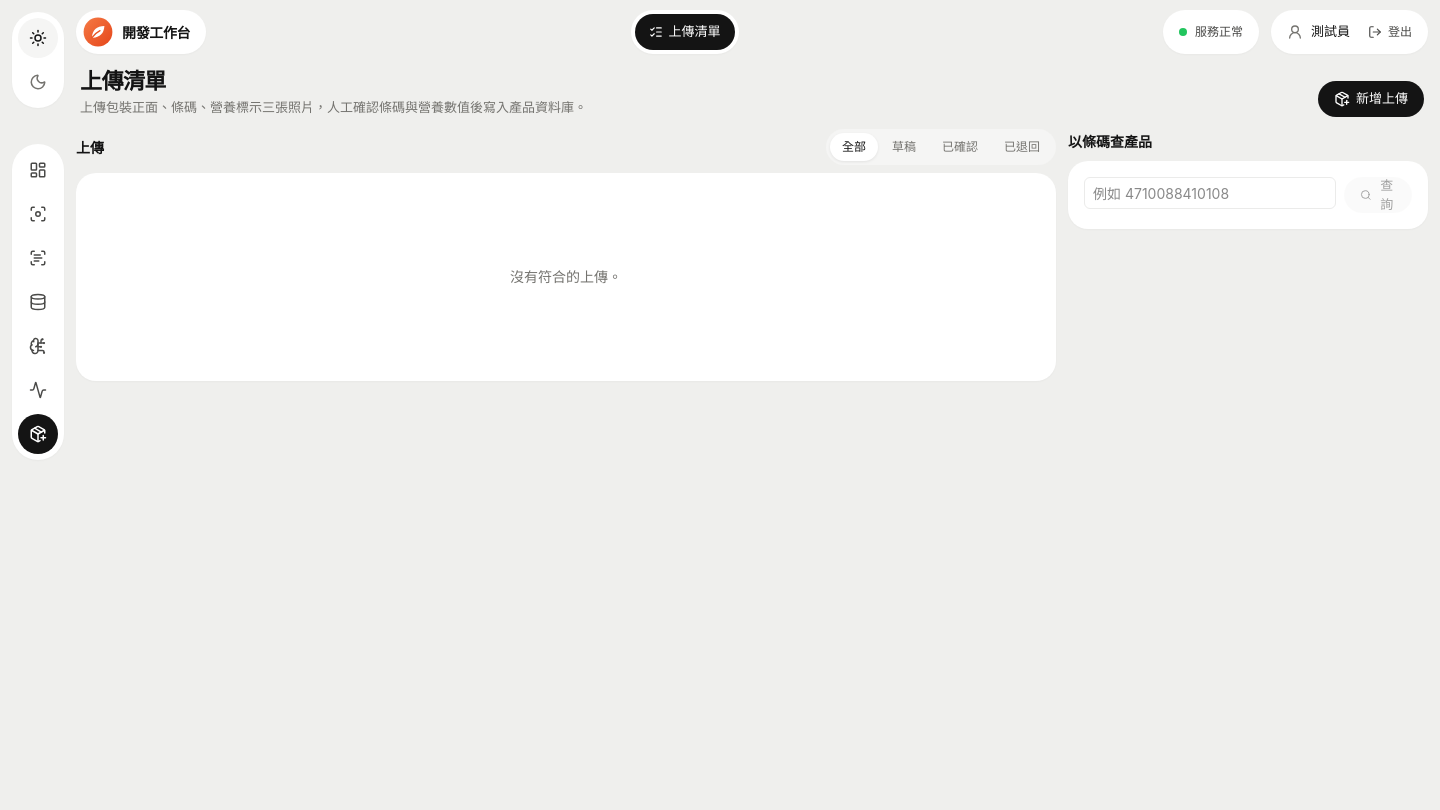
Test: 上傳清單 › 以條碼查產品：顯示摘要或查無此產品
Type "4710088410108" into the field named "查詢條碼" at [1210, 193], box [1084,177,1336,209]
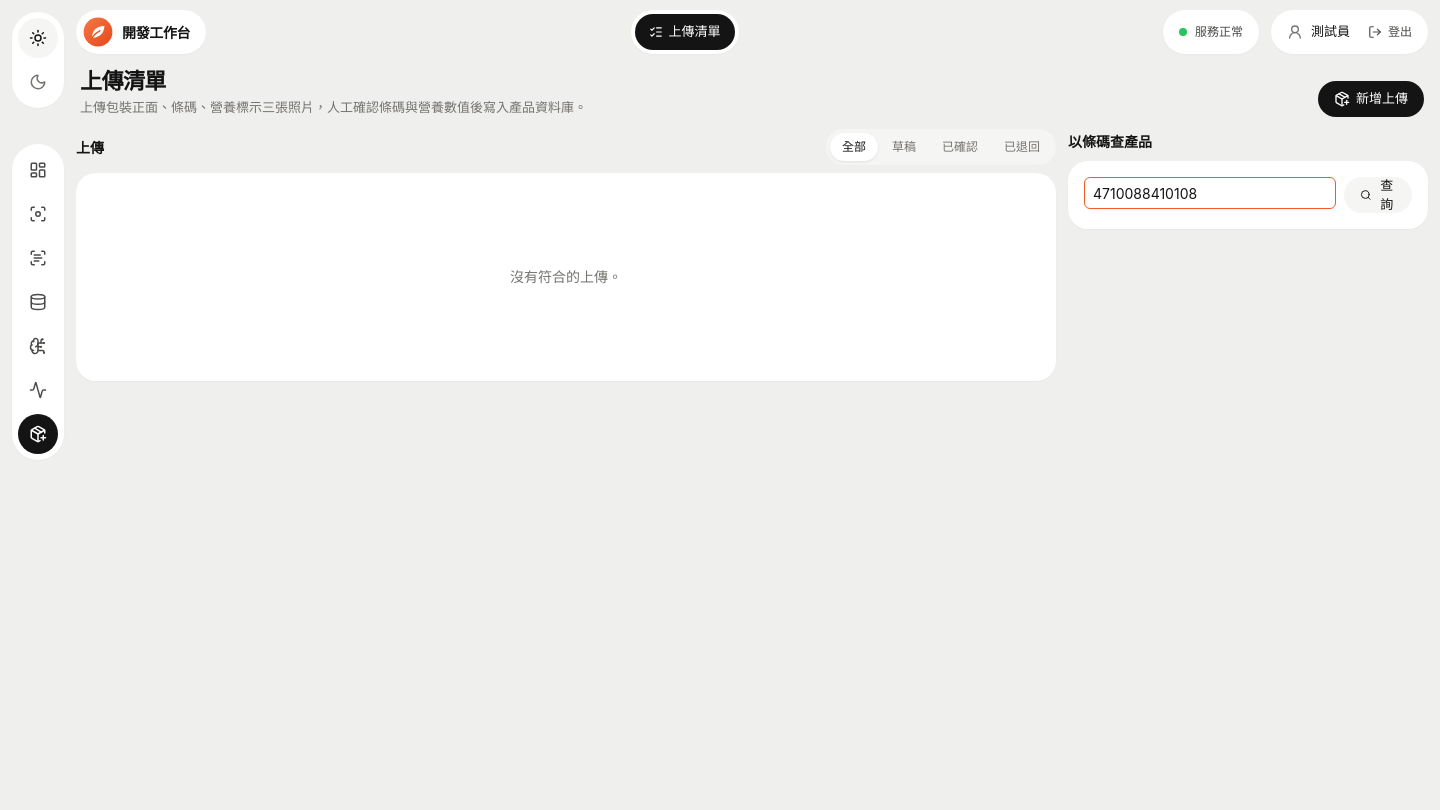
Click the button "查詢" at [1378, 195], box [1344,177,1412,213]
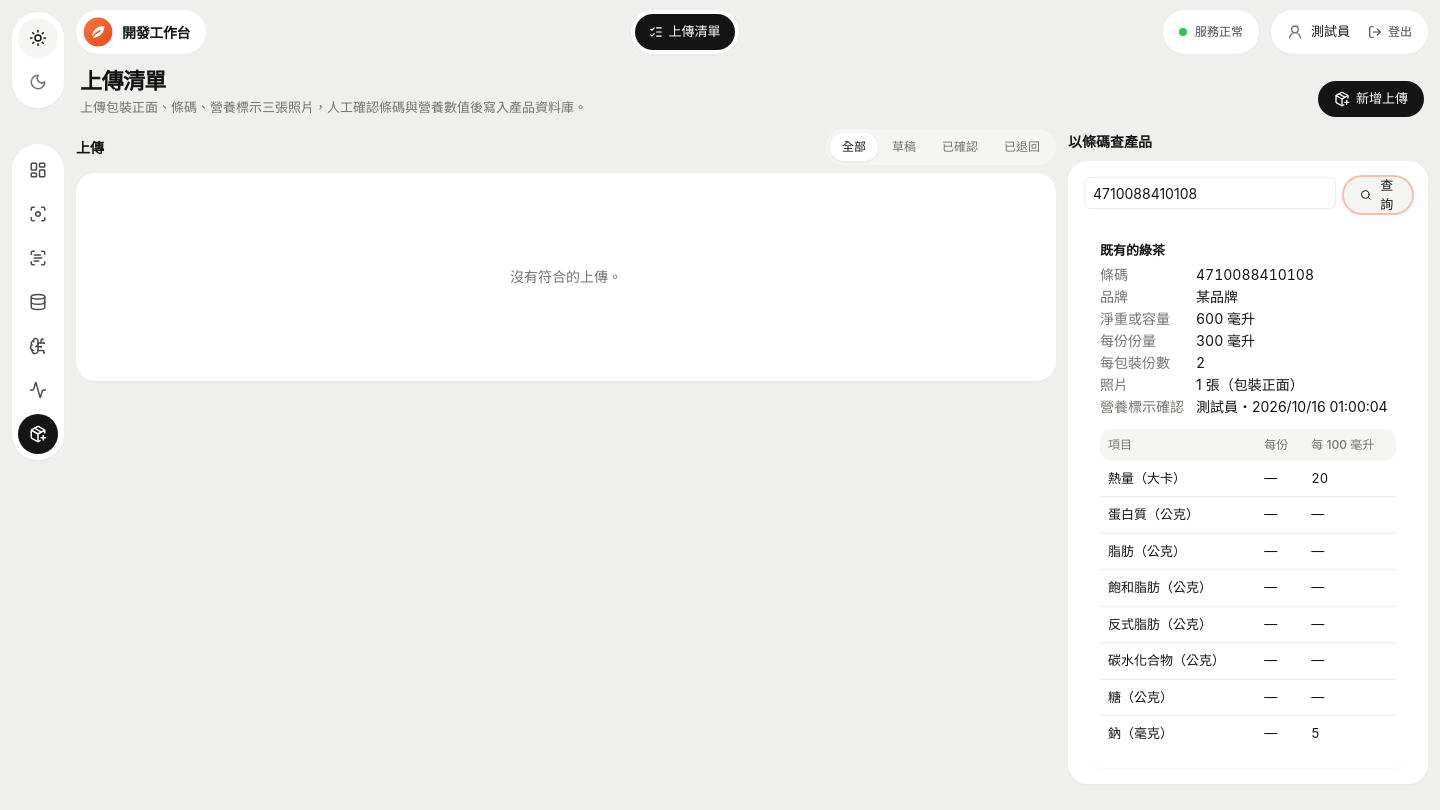
Expected: the element named "產品摘要" shows "既有的綠茶", [1100,242,1165,258]
Expected: the column heading "每 100 毫升" is shown, [1303,428,1396,460]
Replace the text in the field named "查詢條碼" with "12345678" at [1210, 193], box [1084,177,1336,209]
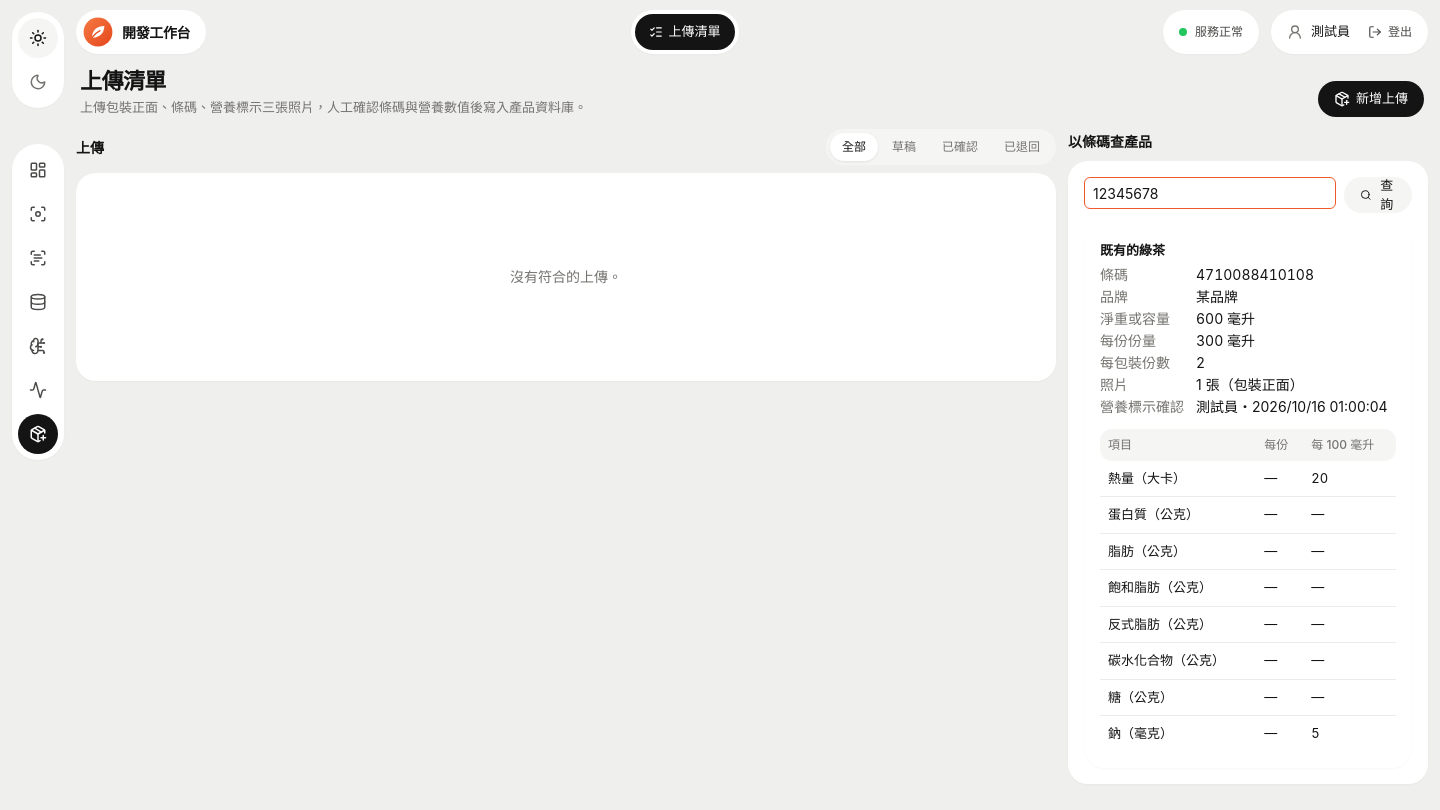
Click the button "查詢" at [1378, 195], box [1344,177,1412,213]
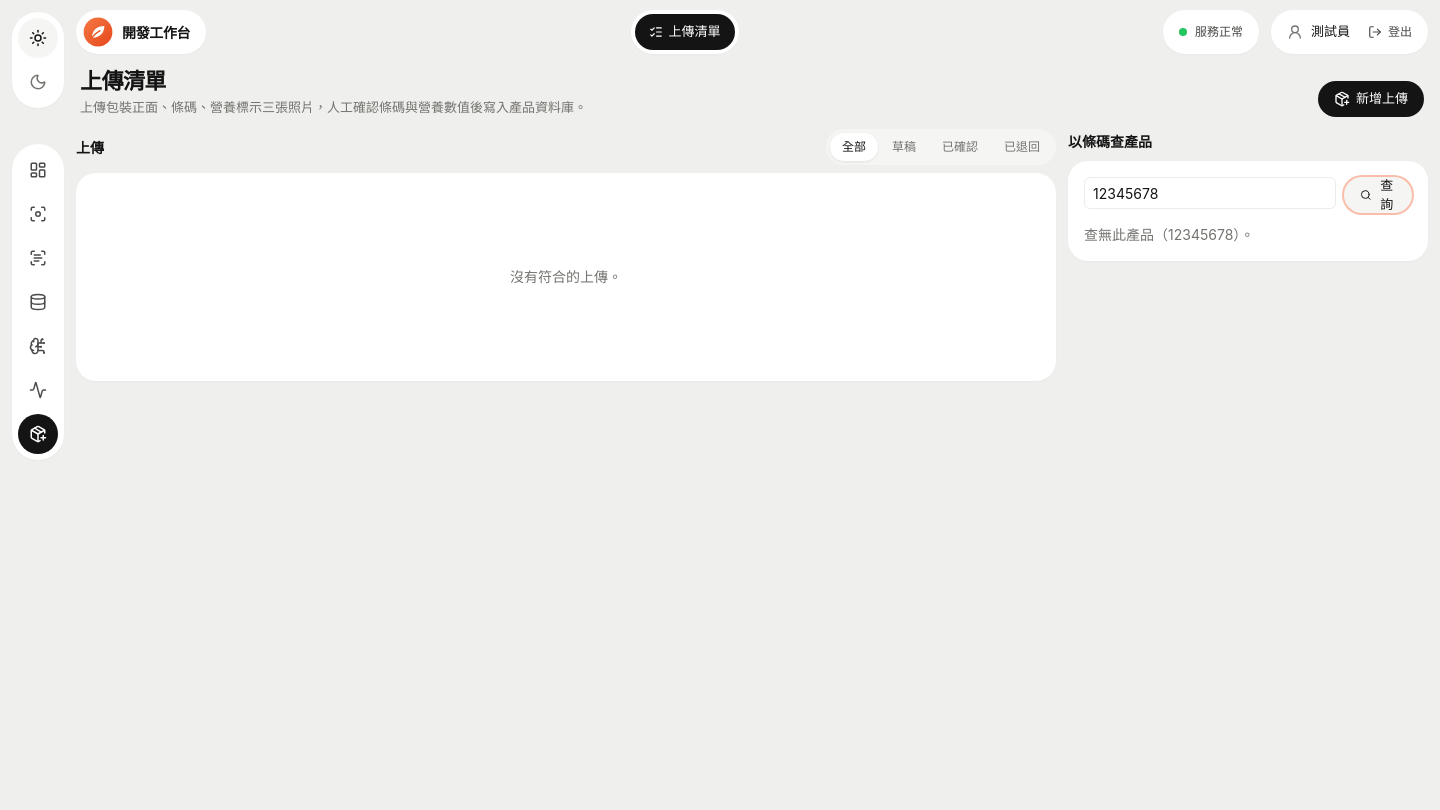
Expected: the text "查無此產品（12345678）。" is shown, [1084,226,1254,243]
